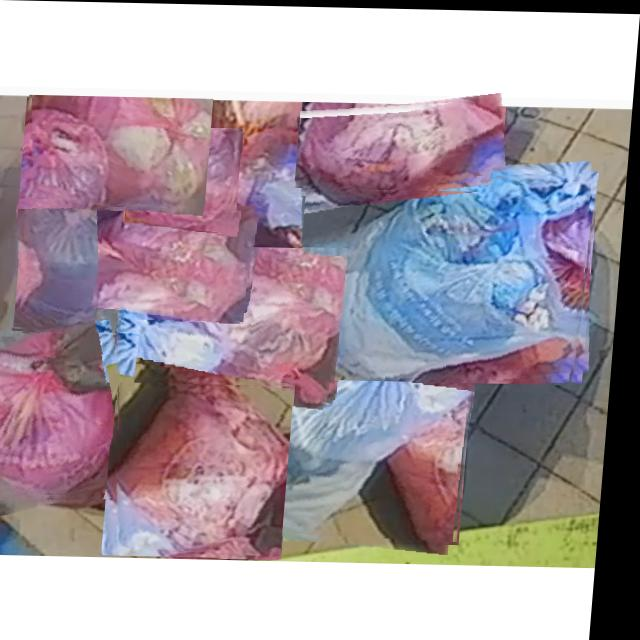other_trashbag: (302, 173, 587, 379), (220, 324, 481, 534), (130, 244, 345, 404), (123, 383, 297, 551), (0, 332, 135, 497), (31, 96, 212, 207), (299, 99, 503, 188), (106, 201, 250, 322), (21, 200, 125, 332), (128, 131, 240, 230)
